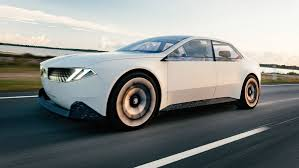car: (35, 37, 260, 128)
